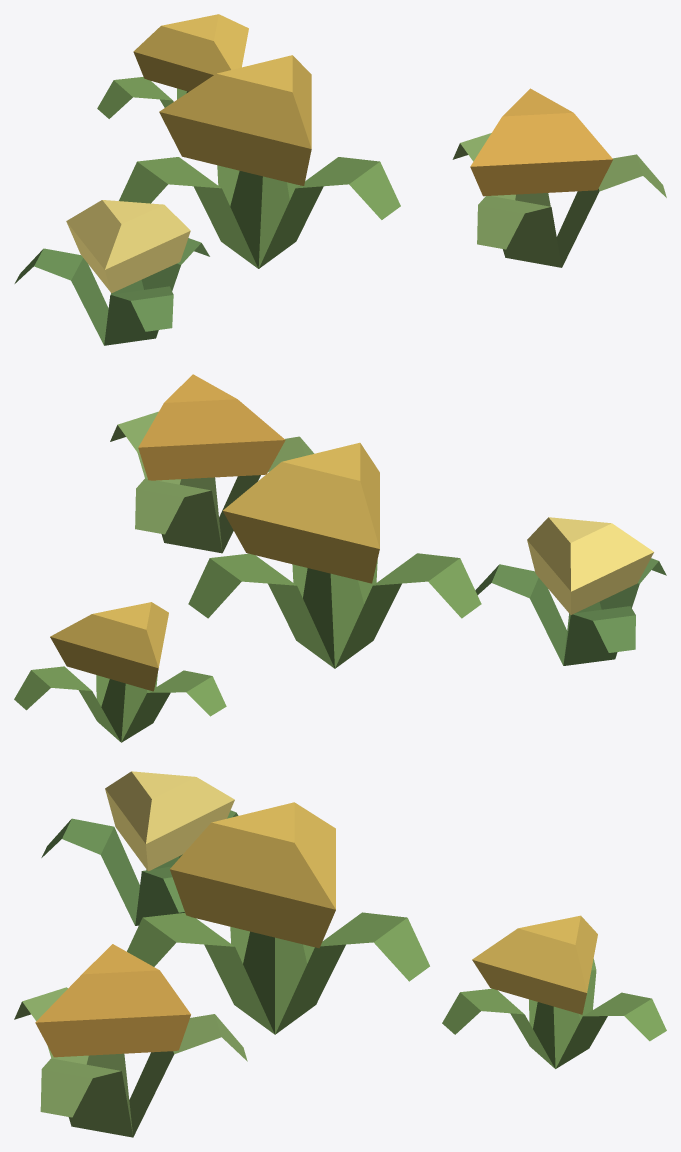
The model's file is veg_wildflower_yellow.glb.
The picture shows the model from 3 angles, top to bottom: view 1: azimuth 30°, elevation 25°; view 2: azimuth 150°, elevation 25°; view 3: azimuth 270°, elevation 25°; orthographic projection. The views are drawn at different scales.
Parts seen in each view (by area): view 1: clump_0, clump_2, clump_1, clump_3; view 2: clump_0, clump_2, clump_1, clump_3; view 3: clump_0, clump_2, clump_3, clump_1.
Part boxes in pixels (bbox=[...]): clump_0: bbox=[119, 55, 400, 268]; clump_2: bbox=[452, 88, 666, 267]; clump_1: bbox=[14, 200, 209, 345]; clump_3: bbox=[97, 14, 248, 118]; clump_0: bbox=[188, 442, 481, 668]; clump_2: bbox=[110, 374, 314, 553]; clump_1: bbox=[475, 517, 666, 665]; clump_3: bbox=[14, 602, 226, 742]; clump_0: bbox=[127, 802, 429, 1034]; clump_2: bbox=[14, 944, 247, 1137]; clump_3: bbox=[442, 915, 666, 1068]; clump_1: bbox=[41, 771, 238, 925].
Bounding box in the file's own units: 0.6185 × 0.1823 × 0.5536.
